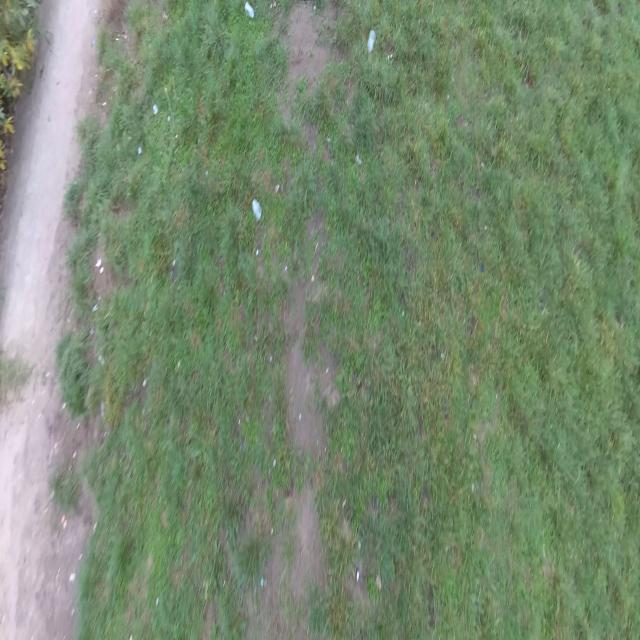rubbish: (252, 196, 265, 223), (368, 27, 376, 55), (243, 2, 255, 19)
